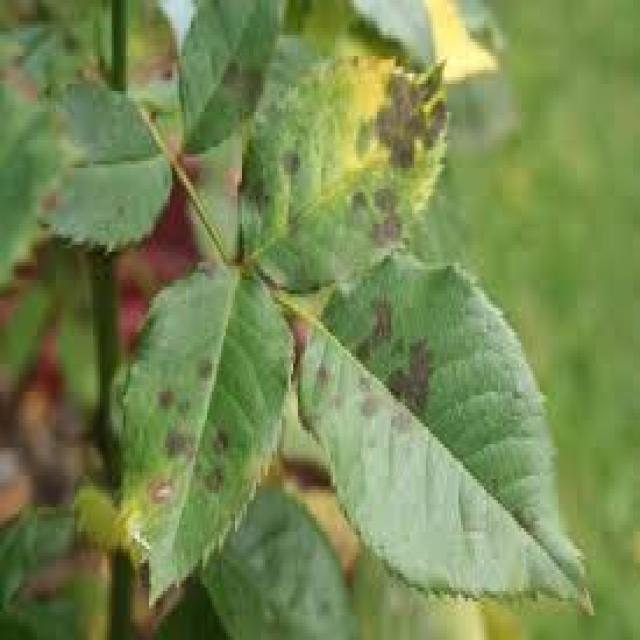black-spot: (338, 61, 517, 279)
